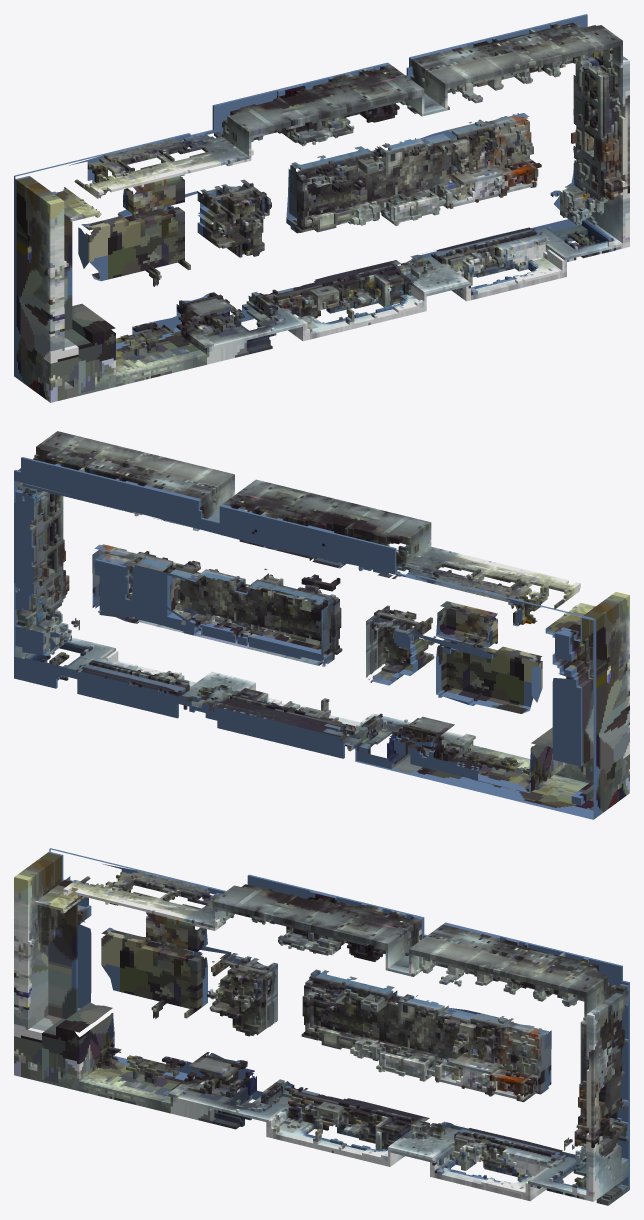
File: geomap_final_noroof.obj
3 views of the same model, one above another, from view 1: azimuth 30°, elevation 25°; view 2: azimuth 150°, elevation 25°; view 3: azimuth 330°, elevation 25° (orthographic).
Parts seen in each view (by area): view 1: mesh; view 2: mesh; view 3: mesh.
Part boxes in pixels (x1,y1,x2,y2): mesh: (14,14,629,402); mesh: (14,431,629,819); mesh: (14,848,629,1205).
Size of the model in its own units: 24.8 by 9.1 by 2.71.
1 material, 1 textured.
